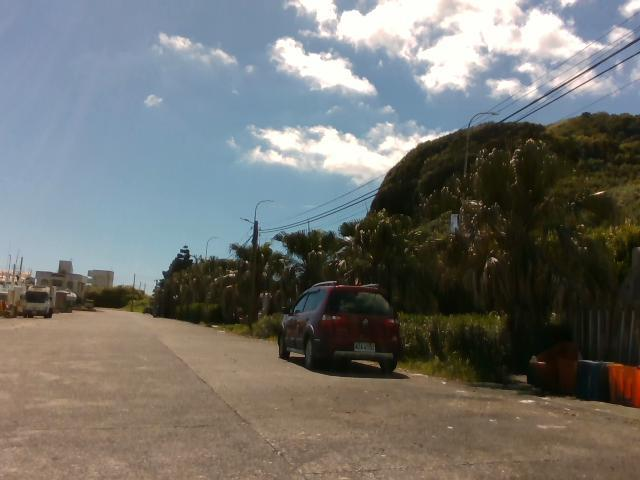pollute: (521, 338, 639, 411)
